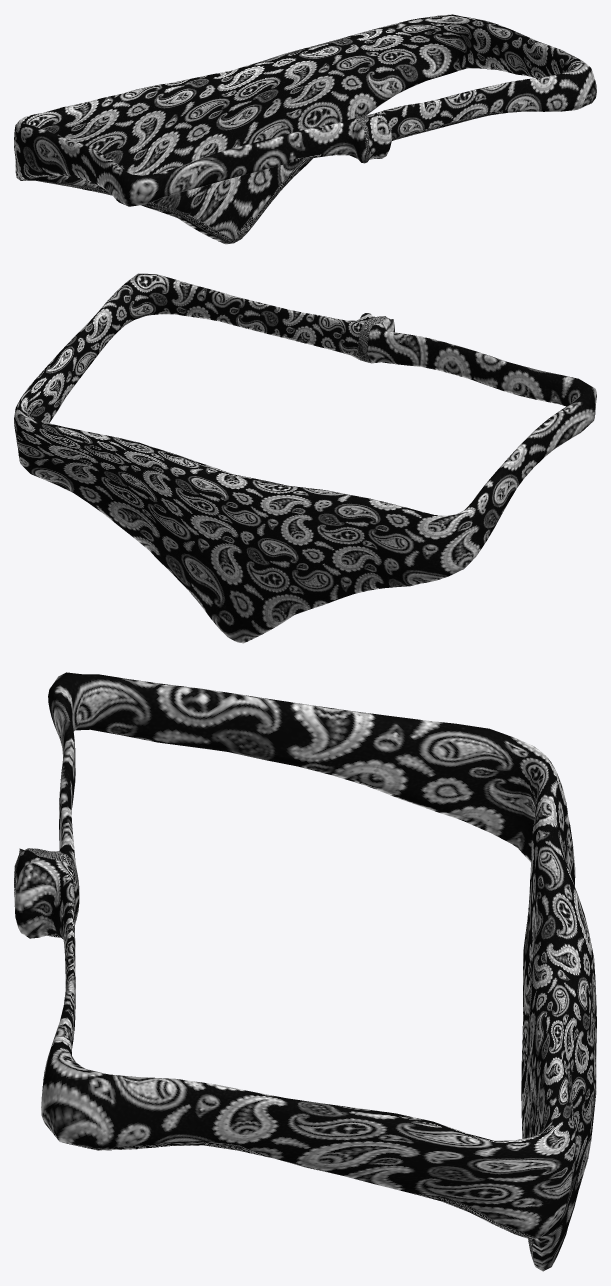
The model's file is Bandana.fbx.
3 renders of one model, top to bottom at view 1: azimuth 30°, elevation 25°; view 2: azimuth 150°, elevation 25°; view 3: azimuth 270°, elevation 25°, orthographic. The views are drawn at different scales.
Visible parts, largest first — view 1: Bandana_remesh; view 2: Bandana_remesh; view 3: Bandana_remesh.
Boxes of the visible parts, x1=… form: Bandana_remesh: x1=14, y1=14, x2=596, y2=244; Bandana_remesh: x1=14, y1=273, x2=596, y2=643; Bandana_remesh: x1=14, y1=672, x2=596, y2=1271.
Size of the model in its own units: 80.41 by 36.7 by 46.89.
Materials: 1 (1 with a texture image).
